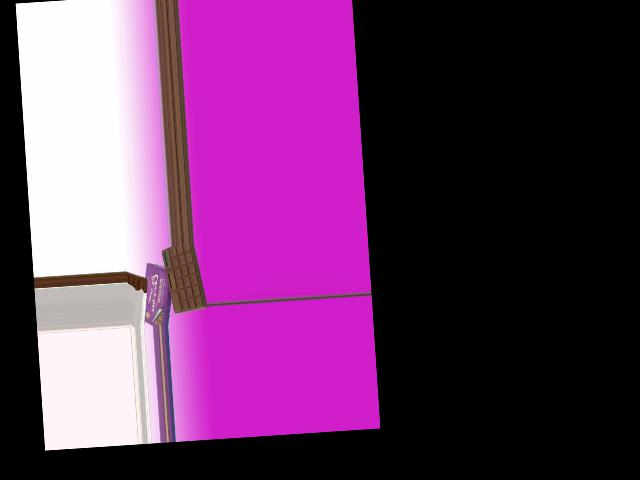chocolate: (160, 247, 207, 313)
